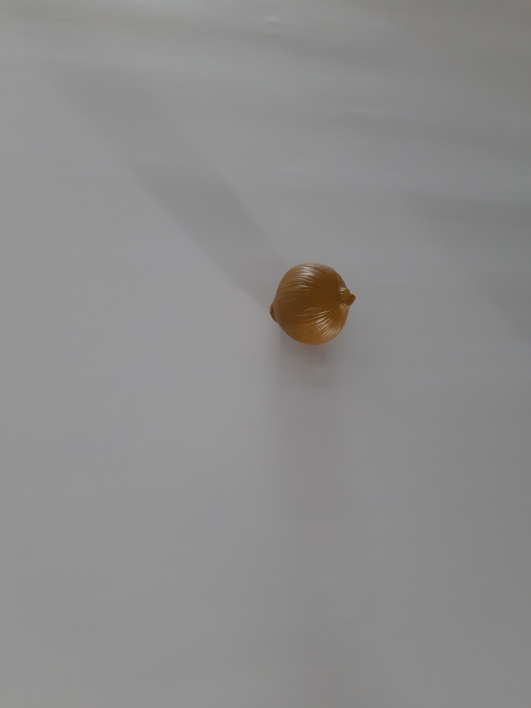onion: (259, 251, 371, 359)
